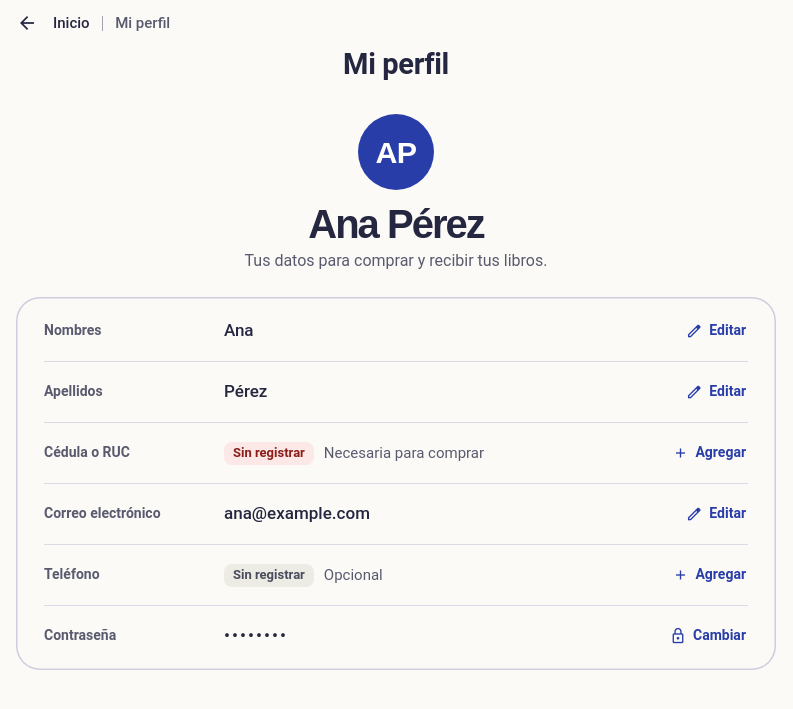
Test: customer account › cancels an edit with Escape without saving
Step 1. Click the button named "Editar apellidos" → (717, 392), box [675,370,758,414]
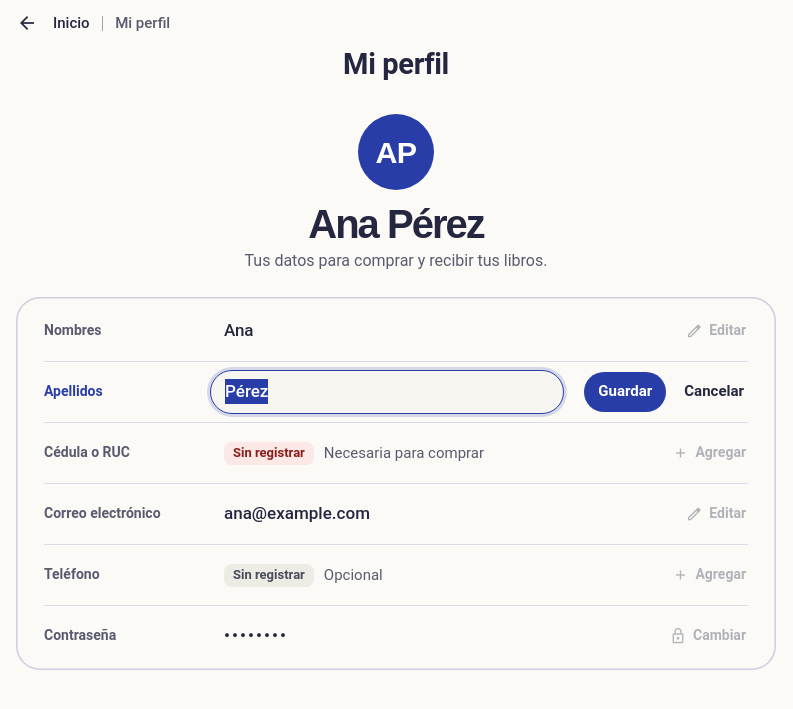
Step 2. Type " Andrade" into the field labelled "Apellidos" → (387, 392), box [210,370,564,414]
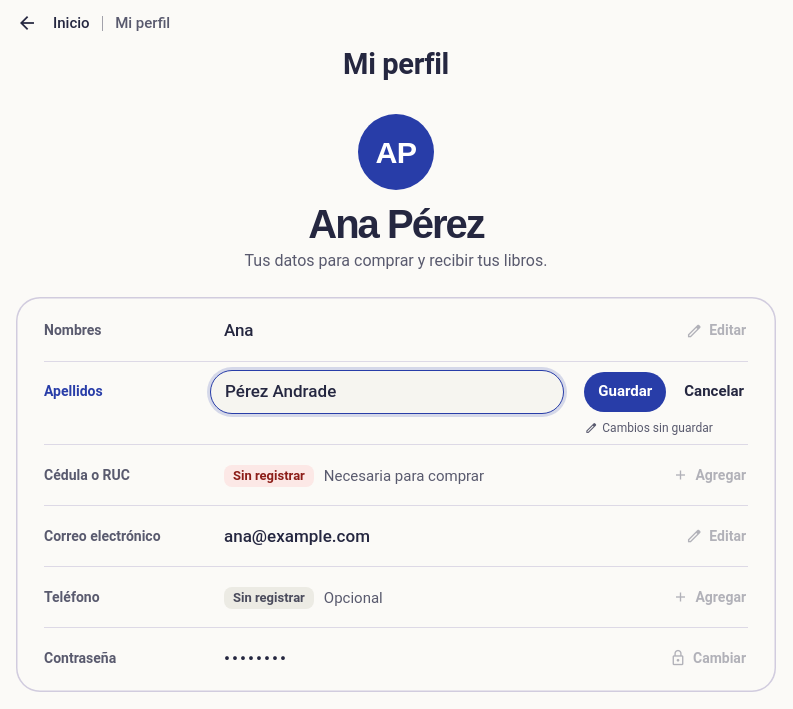
Step 3. Press Escape
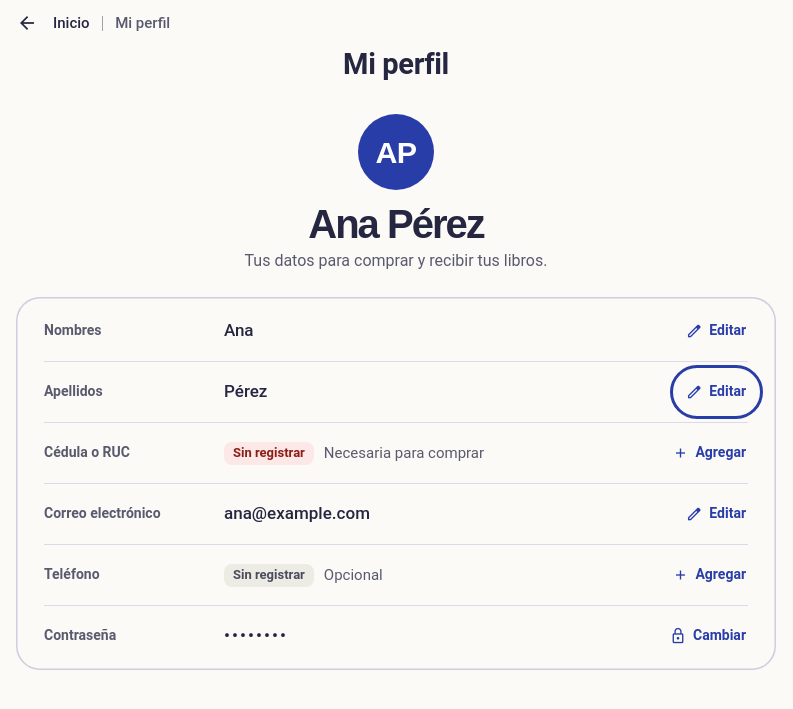
Expected: the text "Pérez" is shown, [224,381,267,401]
